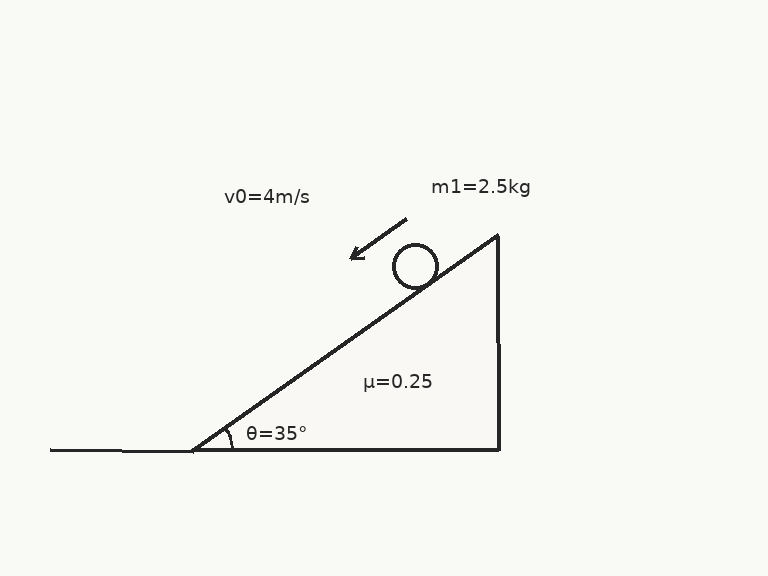ball: (390, 241, 440, 291)
ramp: (190, 233, 500, 452)
